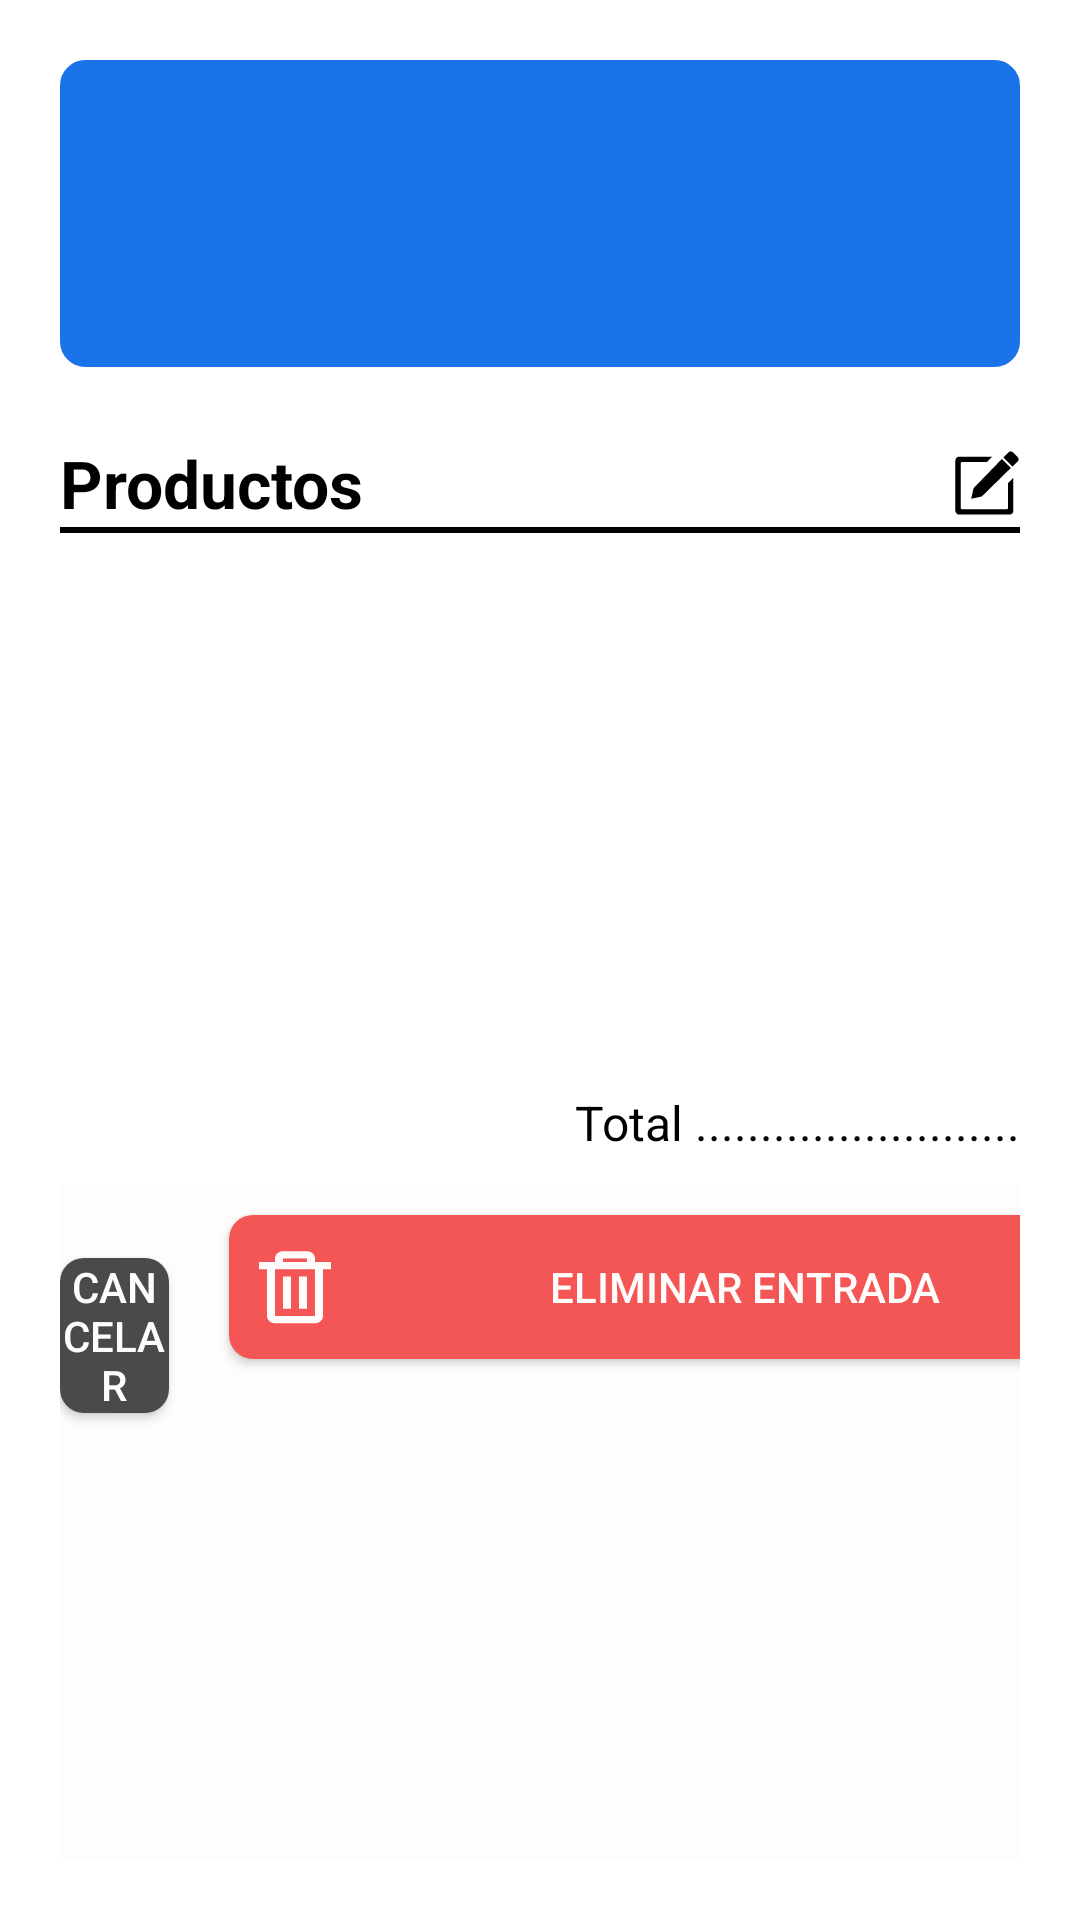

Icon bounding boxes for this 1080×1920 phone screenshot, format rect(x1, y1, x2, y2):
edit: rect(955, 451, 1019, 515)
